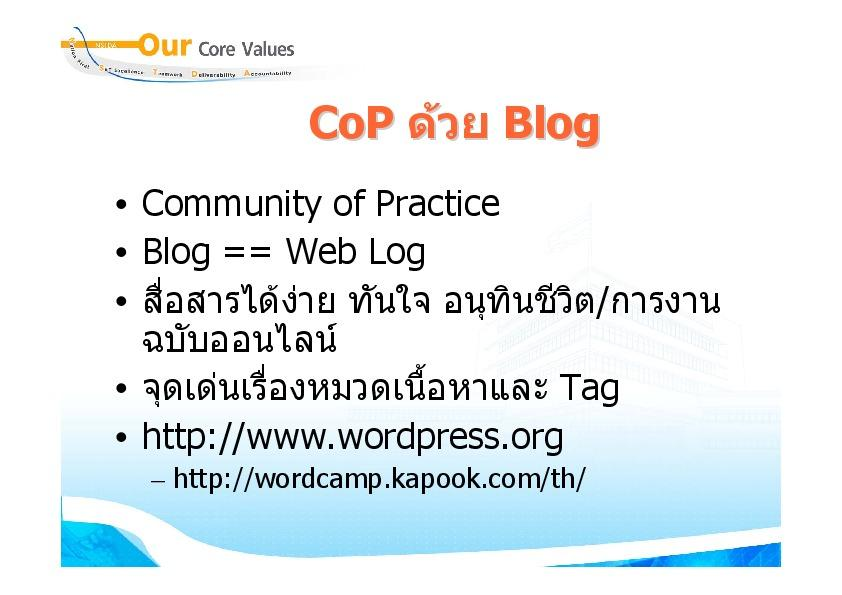paragraph: (97, 177, 812, 507)
title: (299, 90, 616, 156)
